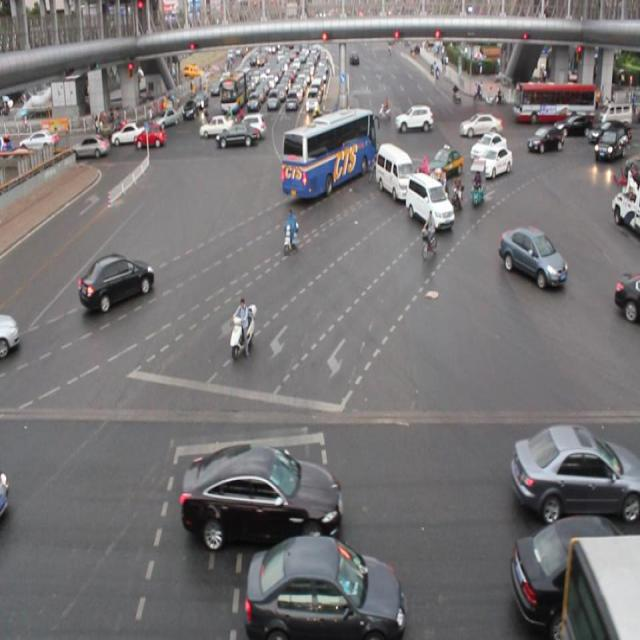car: (245, 534, 403, 640), (182, 442, 343, 541), (510, 511, 640, 618), (508, 420, 640, 524), (78, 254, 156, 315), (498, 226, 567, 286), (610, 267, 640, 318), (329, 116, 368, 148), (1, 304, 22, 362), (214, 122, 254, 149), (423, 148, 461, 176), (459, 111, 497, 139), (525, 124, 562, 152), (477, 149, 510, 176), (470, 134, 506, 158), (135, 123, 165, 144)
truck: (406, 177, 453, 226), (375, 145, 412, 198)
van: (283, 104, 376, 198), (562, 532, 640, 640)
